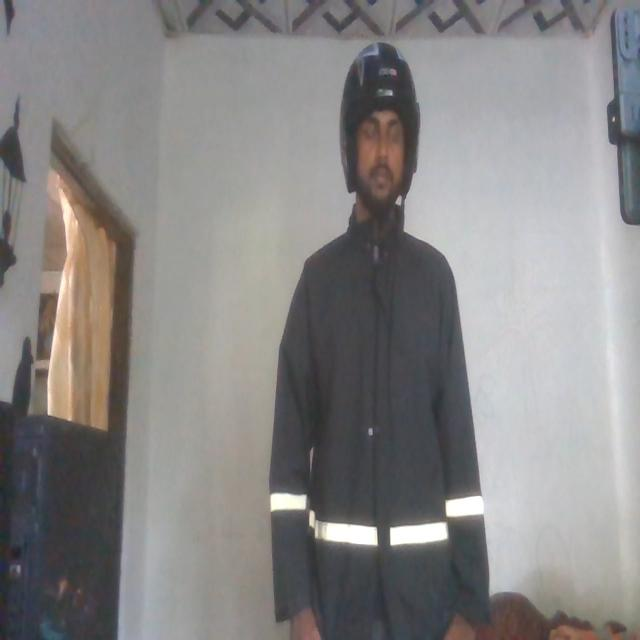Helmet_Wearer: (336, 33, 424, 217)
Jacket_Wearer: (272, 218, 482, 640)
Person: (247, 31, 485, 640)
